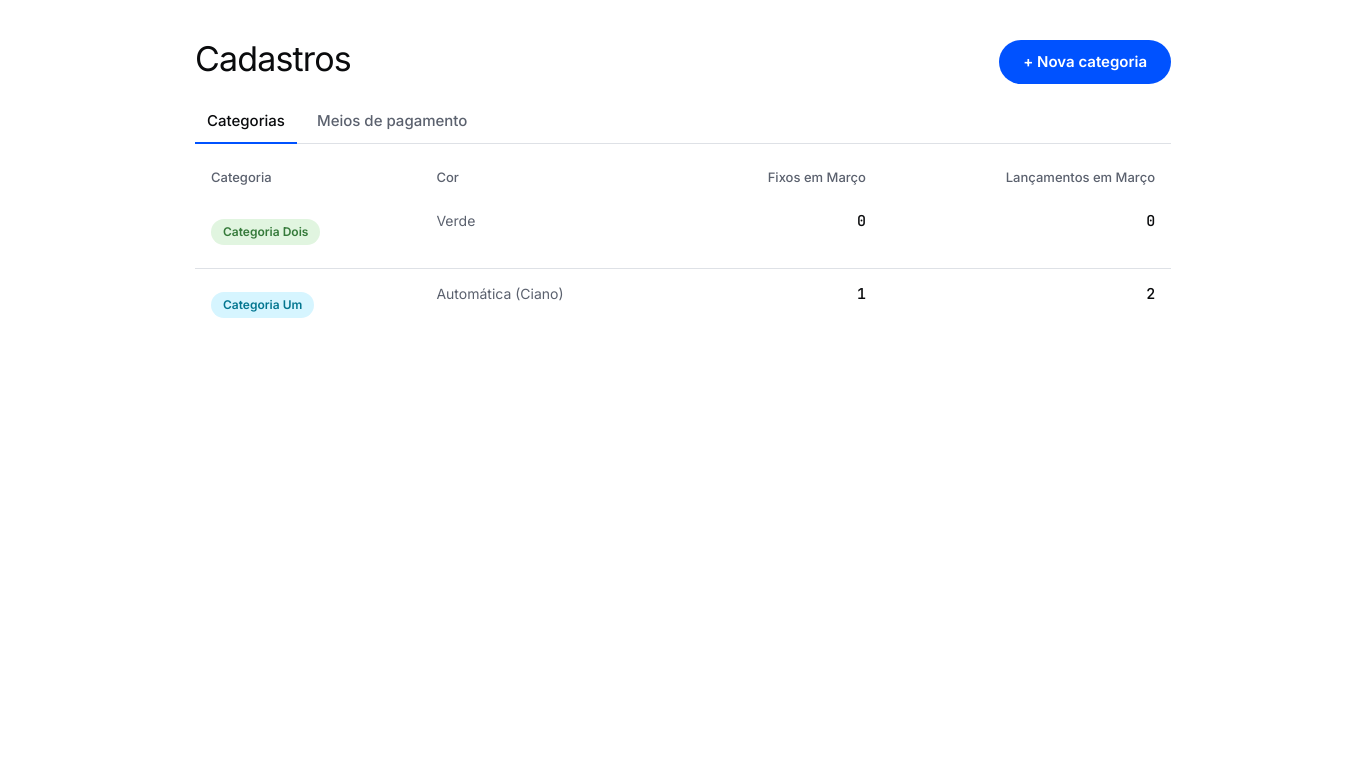
Test: abrir uma categoria e o endereço (CADCOL-04, AC 1; CADCOL-11, AC 1; CADCOL-10, AC 2) › a linha abre a categoria no painel, marca a linha e leva o foco ao título
The width and height of the screenshot is (1366, 768).
Click the button "Categoria Um": (263, 304) [211,282,314,326]
(page scrolled)
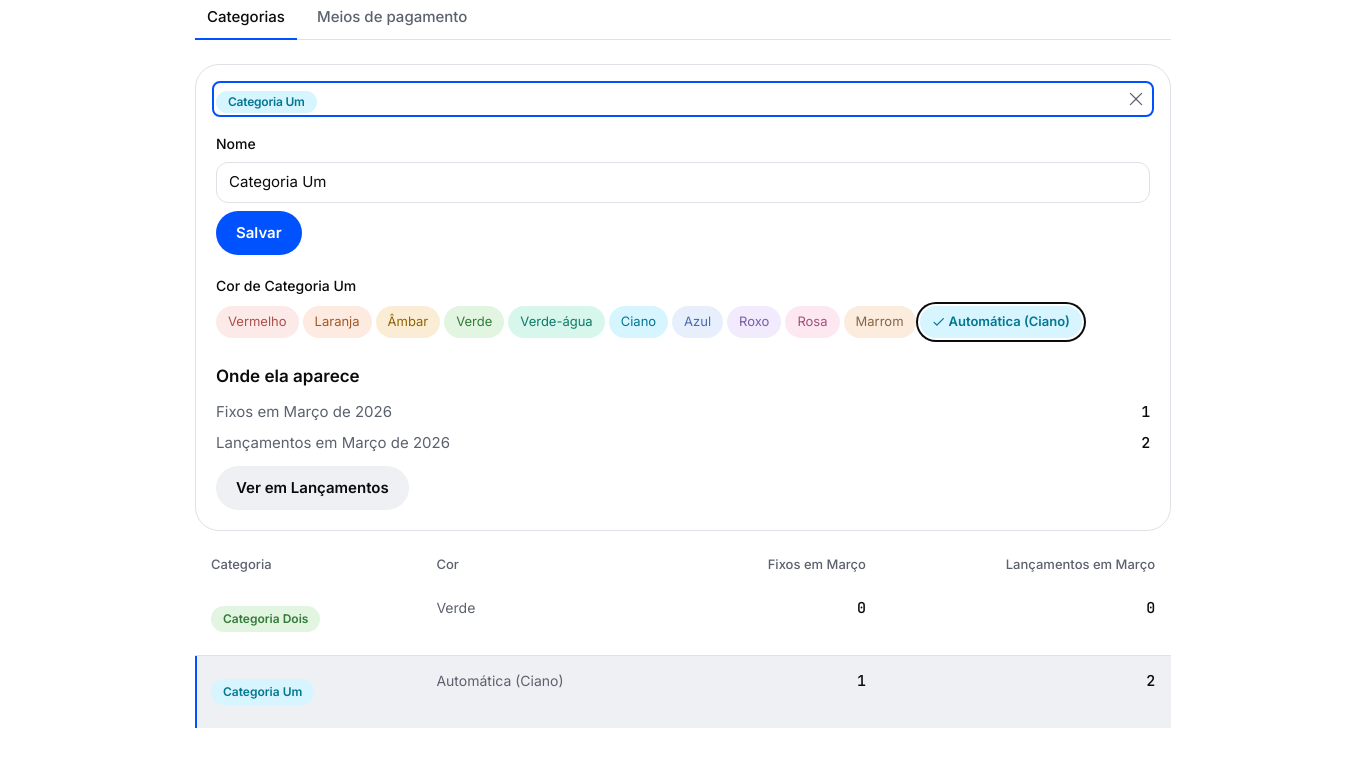
Now the heading "Categoria Um" is shown, box [216,91,317,113]
Now the button "Categoria Um" is expanded, box [211,670,314,714]
